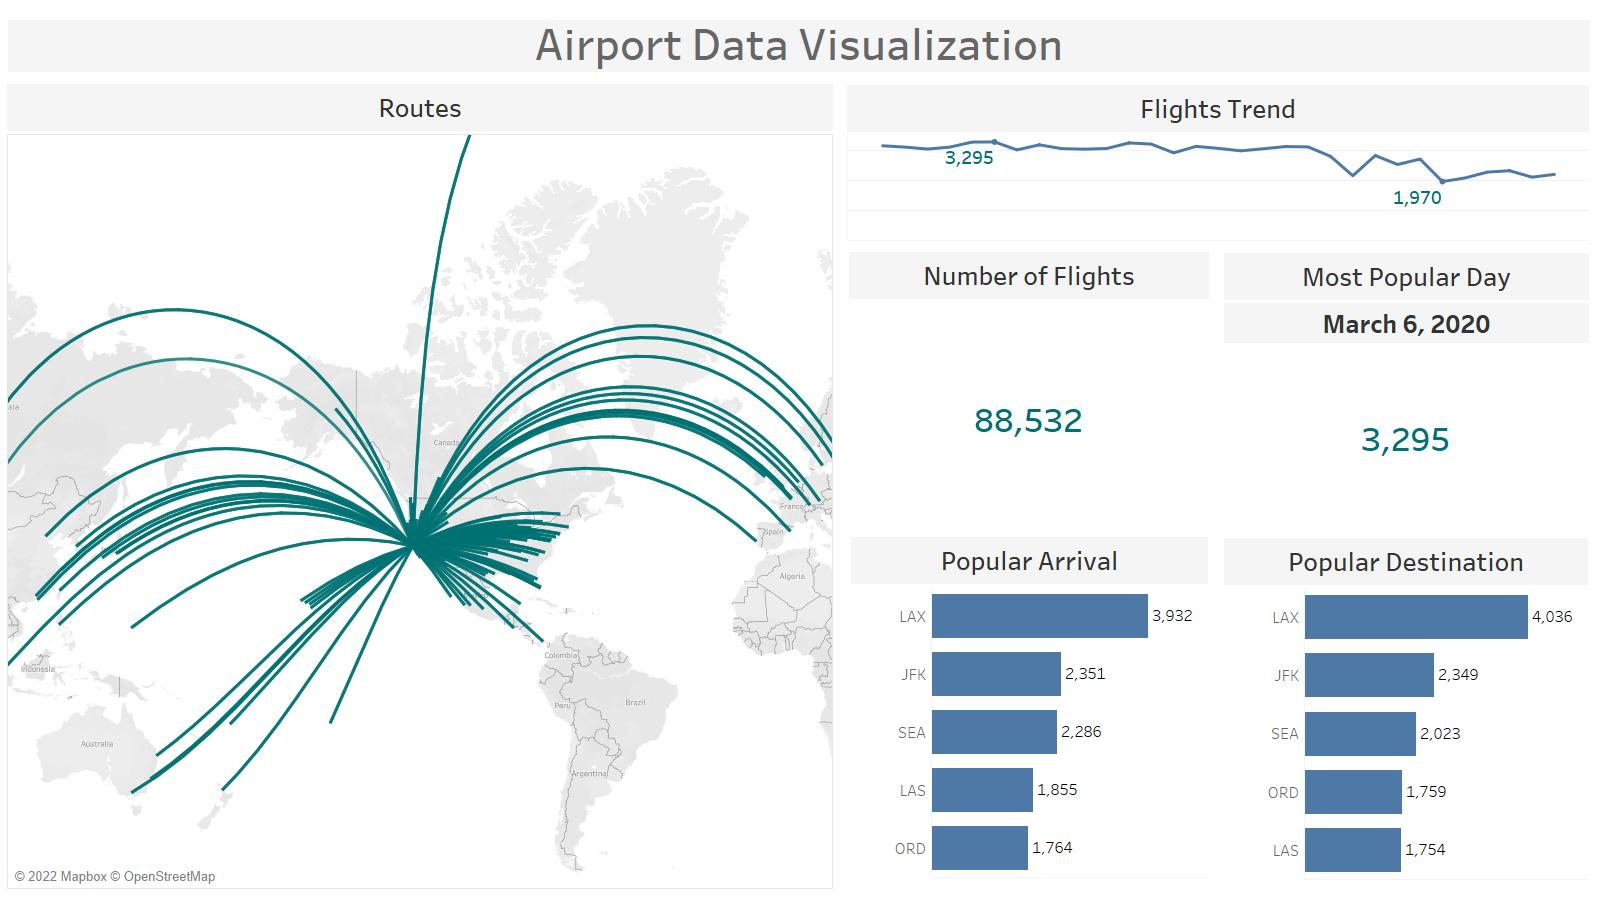

This screenshot's page, from the dashboard's own definition file:
{"tool":"tableau","page":{"name":"Dashboard 1","canvas":[1600,900],"ordinal":0},"visuals":[{"type":"text","box":[8,20,1582,52]},{"type":"worksheet","title":"Routes","mark":"Automatic","box":[7,84,826,805]},{"type":"worksheet","title":"Flights Trend","mark":"Automatic","rows":["Number of Records"],"cols":["Date"],"box":[847,85,742,155]},{"type":"worksheet","title":"Number of Flights","mark":"Automatic","box":[849,252,360,284]},{"type":"worksheet","title":"Most Popular Day","mark":"Automatic","cols":["Date"],"box":[1224,253,365,280]},{"type":"worksheet","title":"Popular Arrival","mark":"Automatic","rows":["Route - Split 1"],"cols":["Number of Records"],"box":[851,537,357,340]},{"type":"worksheet","title":"Popular Destination","mark":"Automatic","rows":["Route - Split 2"],"cols":["Number of Records"],"box":[1224,538,364,341]}]}

Visuals, with their boxes in screenshot pixels (x1, y1, x2, y2), scaled from the page's 1600x900 canvas onto the 1600x900 screenshot:
text: l=8, t=20, r=1590, b=72
"Routes" worksheet: l=7, t=84, r=833, b=889
"Flights Trend" worksheet: l=847, t=85, r=1589, b=240
"Number of Flights" worksheet: l=849, t=252, r=1209, b=536
"Most Popular Day" worksheet: l=1224, t=253, r=1589, b=533
"Popular Arrival" worksheet: l=851, t=537, r=1208, b=877
"Popular Destination" worksheet: l=1224, t=538, r=1588, b=879
